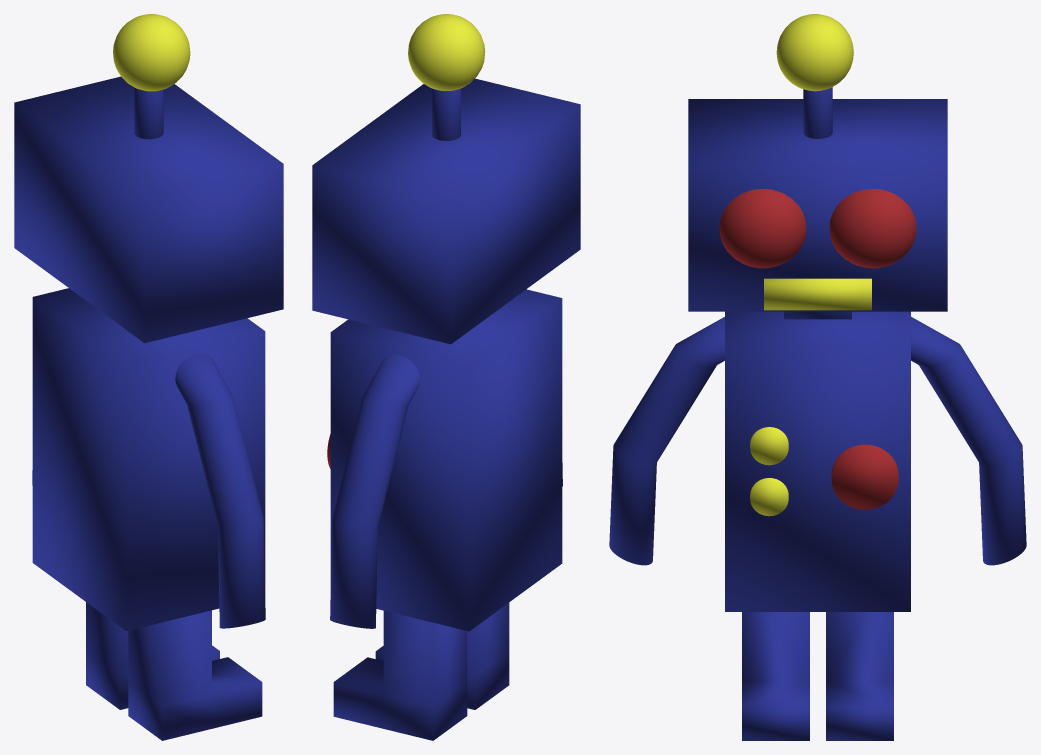
File: SmallRobot.fbx
3 renders of one model, left to right at view 1: azimuth 30°, elevation 25°; view 2: azimuth 150°, elevation 25°; view 3: azimuth 270°, elevation 25°, orthographic.
Parts seen in each view (by area): view 1: Cube.001, Cube, Cube.003, Cylinder, Sphere.001, Cylinder.001; view 2: Cube.001, Cube, Cube.003, Cylinder, Sphere.001, Cylinder.001; view 3: Cube.001, Cube, Cylinder, Cube.003, Sphere, Sphere.001, Cube.004, Cylinder.004, Cylinder.001, Cylinder.002, Cylinder.003.
Part boxes in pixels (<box>): Cube.001: <box>32,288,265,631</box>; Cube: <box>14,76,283,343</box>; Cube.003: <box>86,602,262,740</box>; Cylinder: <box>32,353,265,628</box>; Sphere.001: <box>113,14,190,91</box>; Cylinder.001: <box>134,87,163,139</box>; Cube.001: <box>330,289,562,631</box>; Cube: <box>312,78,580,344</box>; Cube.003: <box>333,602,509,740</box>; Cylinder: <box>330,354,562,628</box>; Sphere.001: <box>408,14,485,90</box>; Cylinder.001: <box>432,88,460,140</box>; Cube.001: <box>725,311,910,611</box>; Cube: <box>688,99,947,311</box>; Cylinder: <box>609,317,1026,565</box>; Cube.003: <box>742,612,893,740</box>; Sphere: <box>719,189,916,268</box>; Sphere.001: <box>776,14,853,91</box>; Cube.004: <box>764,278,871,310</box>; Cylinder.004: <box>831,444,898,509</box>; Cylinder.001: <box>803,87,832,138</box>; Cylinder.002: <box>750,427,788,465</box>; Cylinder.003: <box>750,478,788,516</box>.
Size of the model in its own units: 11.97 by 47.4 by 26.07.
